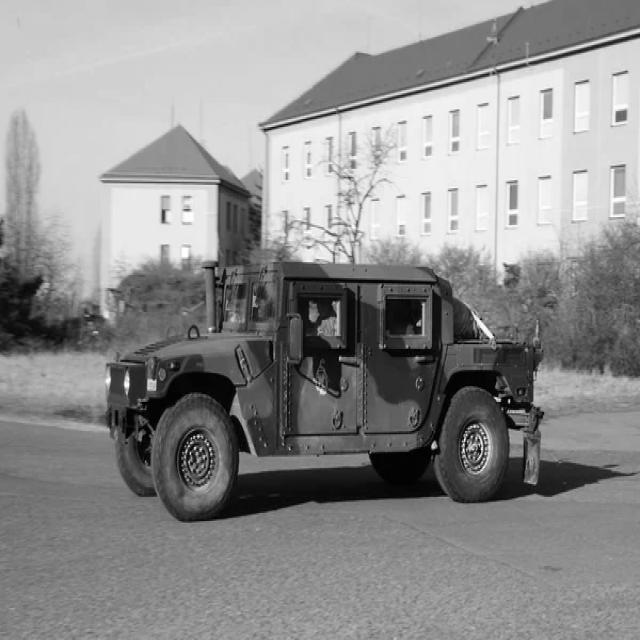Car: (106, 262, 543, 521)
